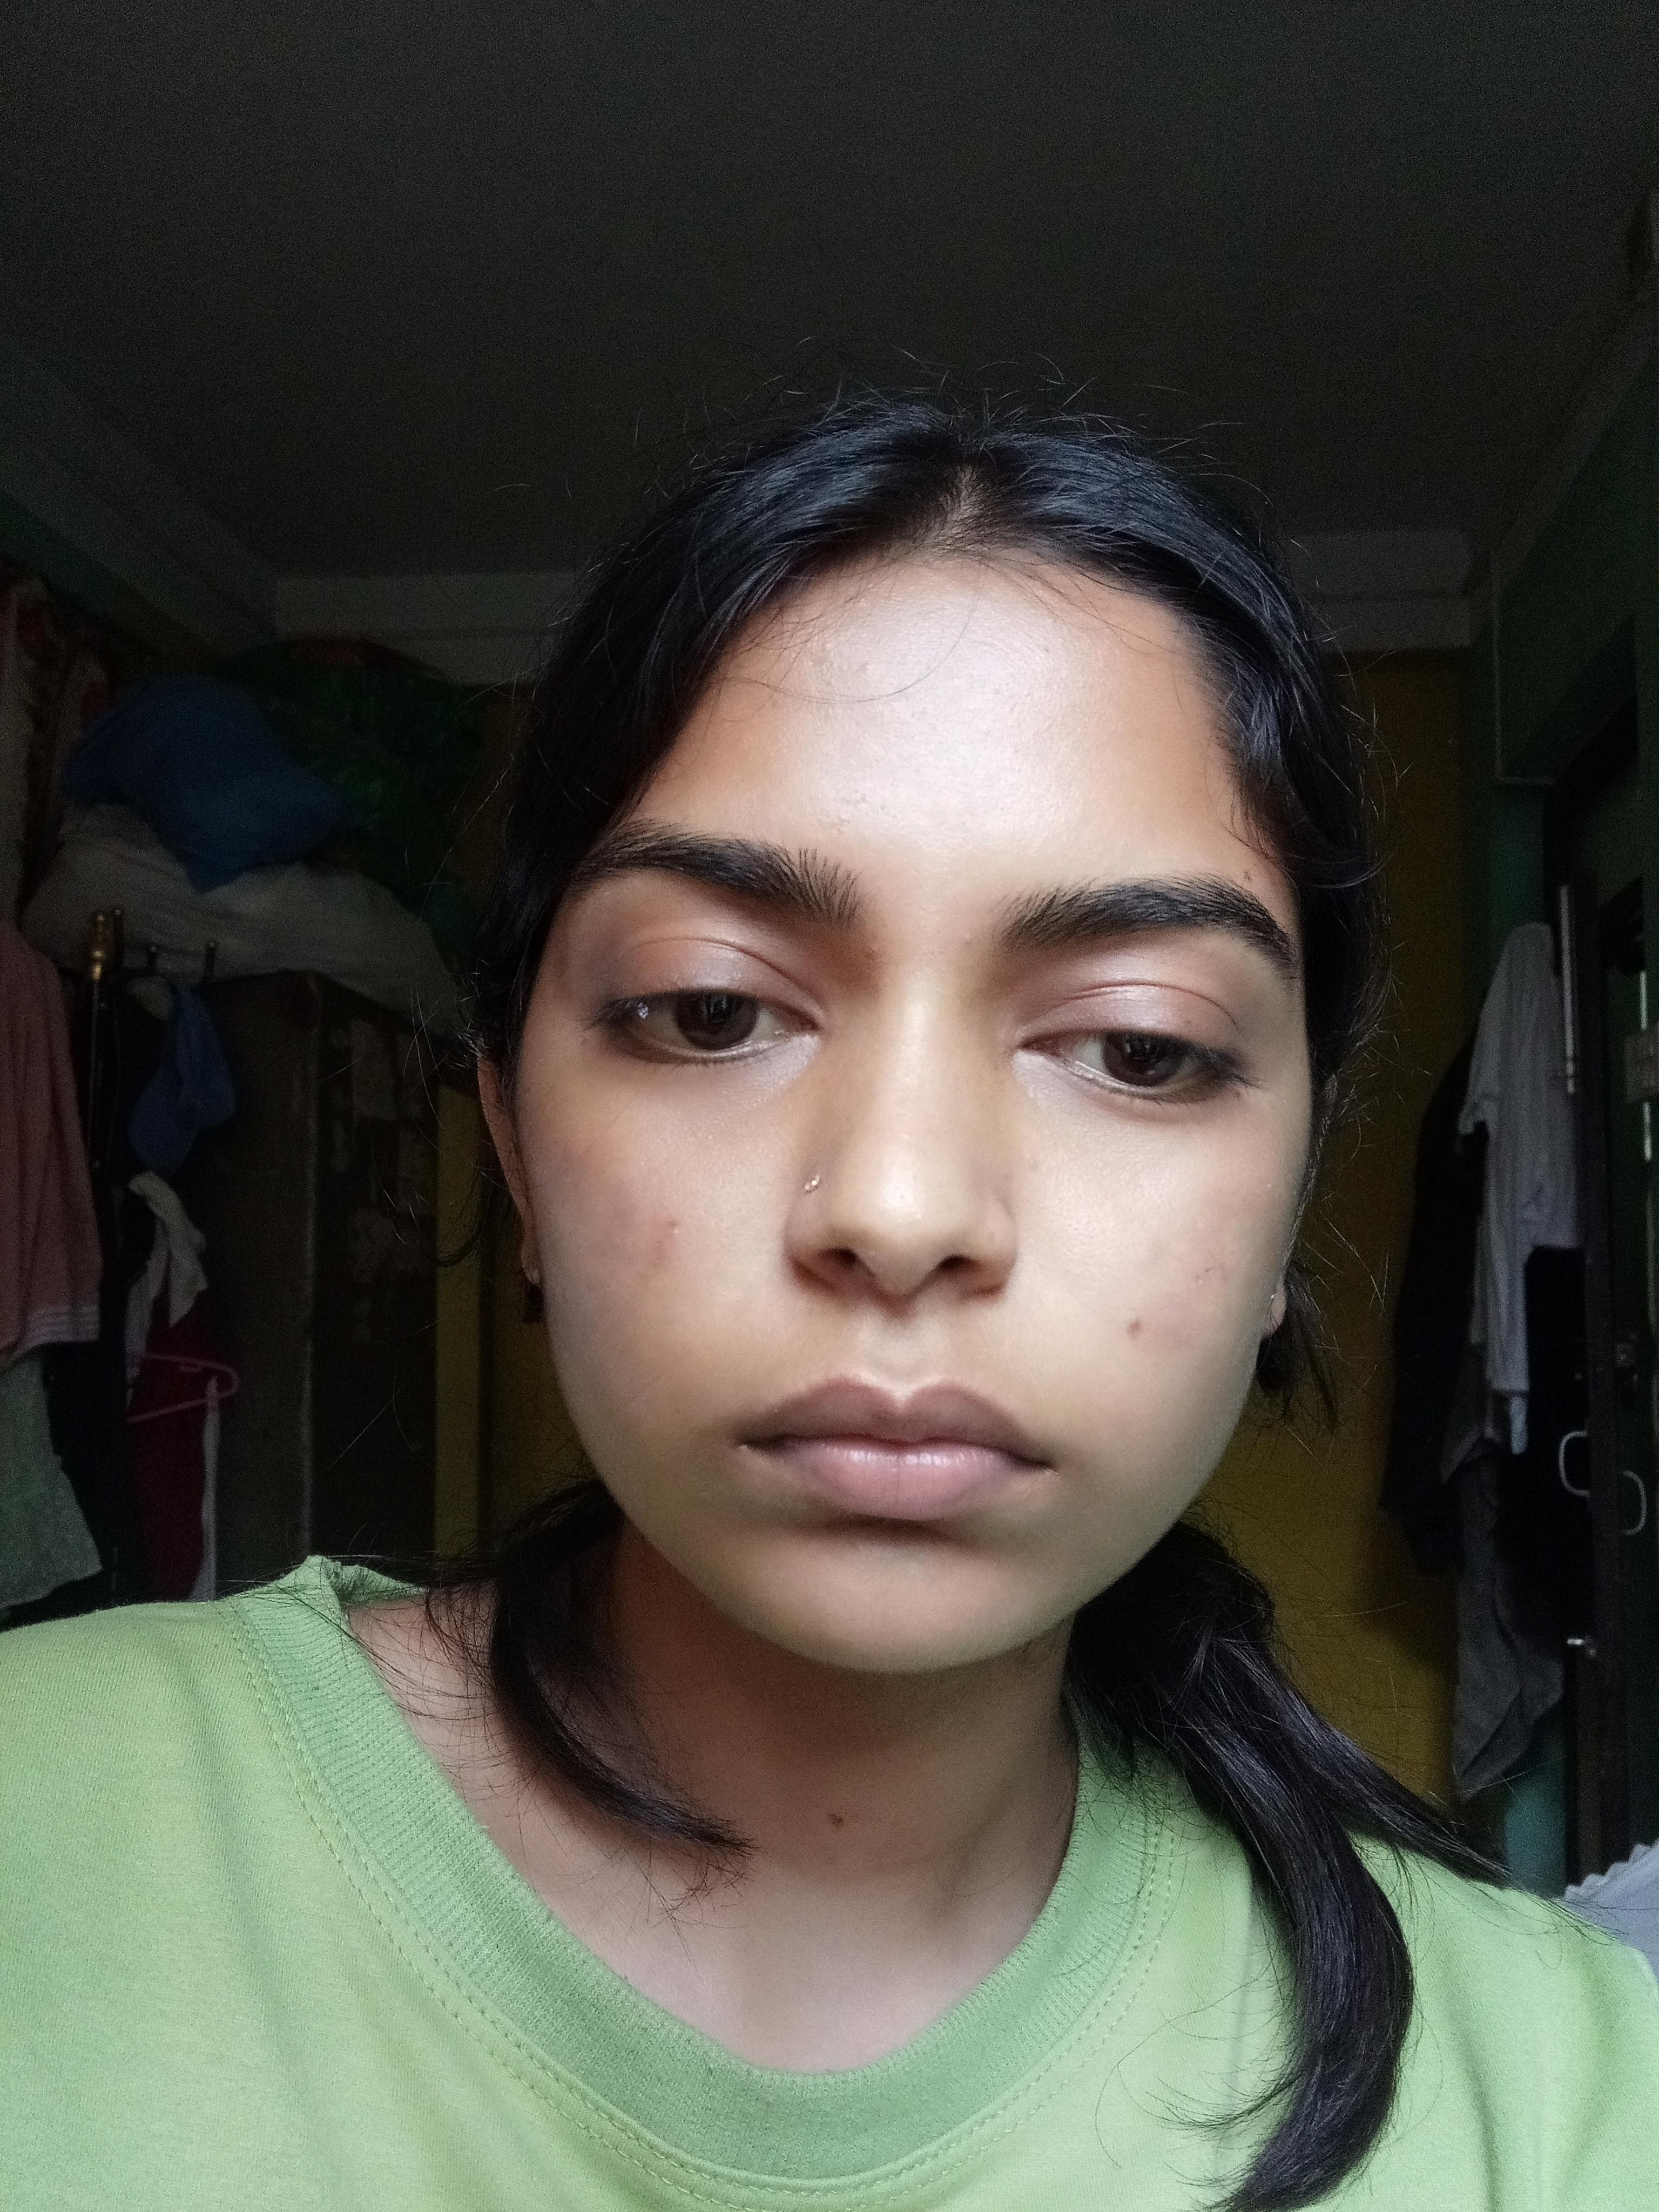Acne: (640, 1204, 695, 1277), (803, 629, 842, 685), (1188, 1256, 1229, 1292), (1121, 1308, 1148, 1346), (831, 806, 857, 836), (953, 927, 978, 953), (859, 660, 875, 681)
